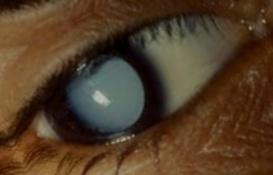eye: (47, 46, 164, 140)
